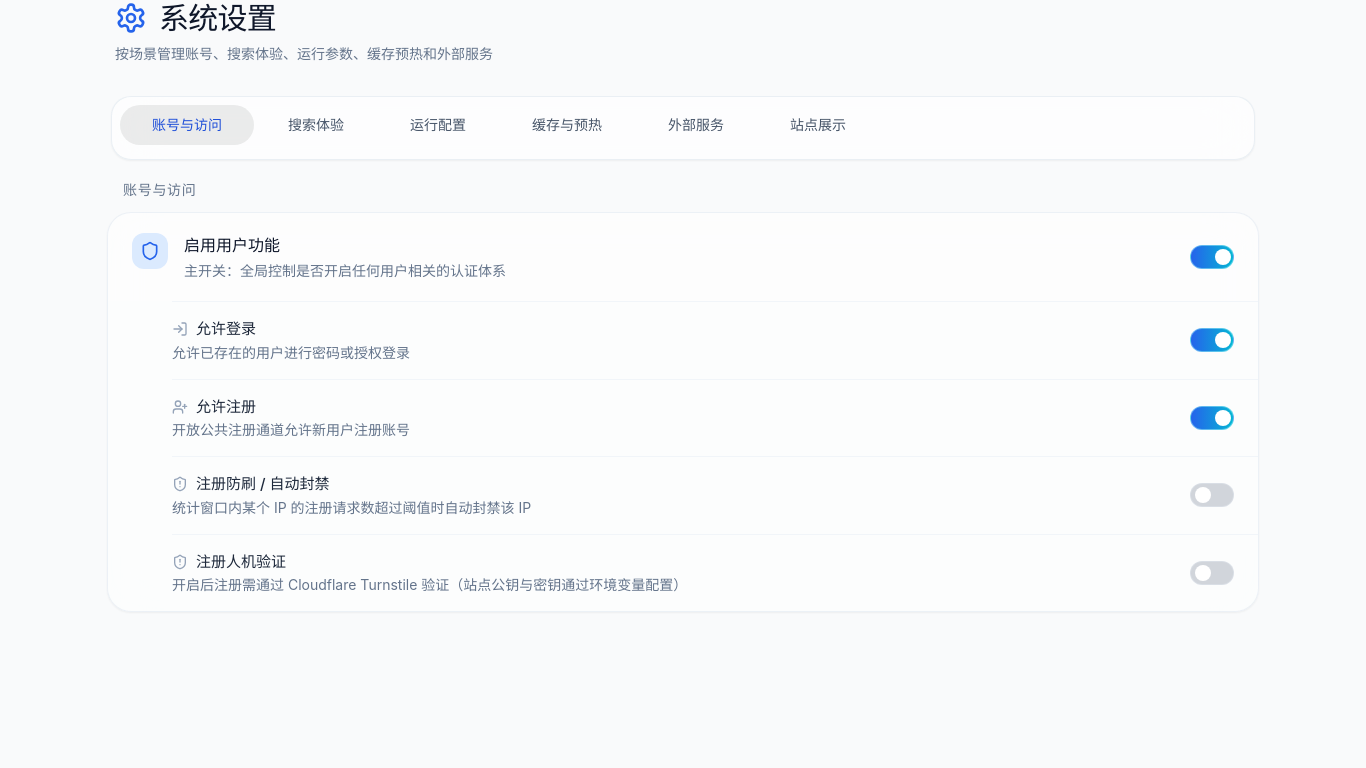
it: SystemSettingsView TMDB section › 点击运行配置后展示并发、异步插件和代理配置
Click the tab "运行配置" at (438, 124), box [410,116,466,133]
(page scrolled)
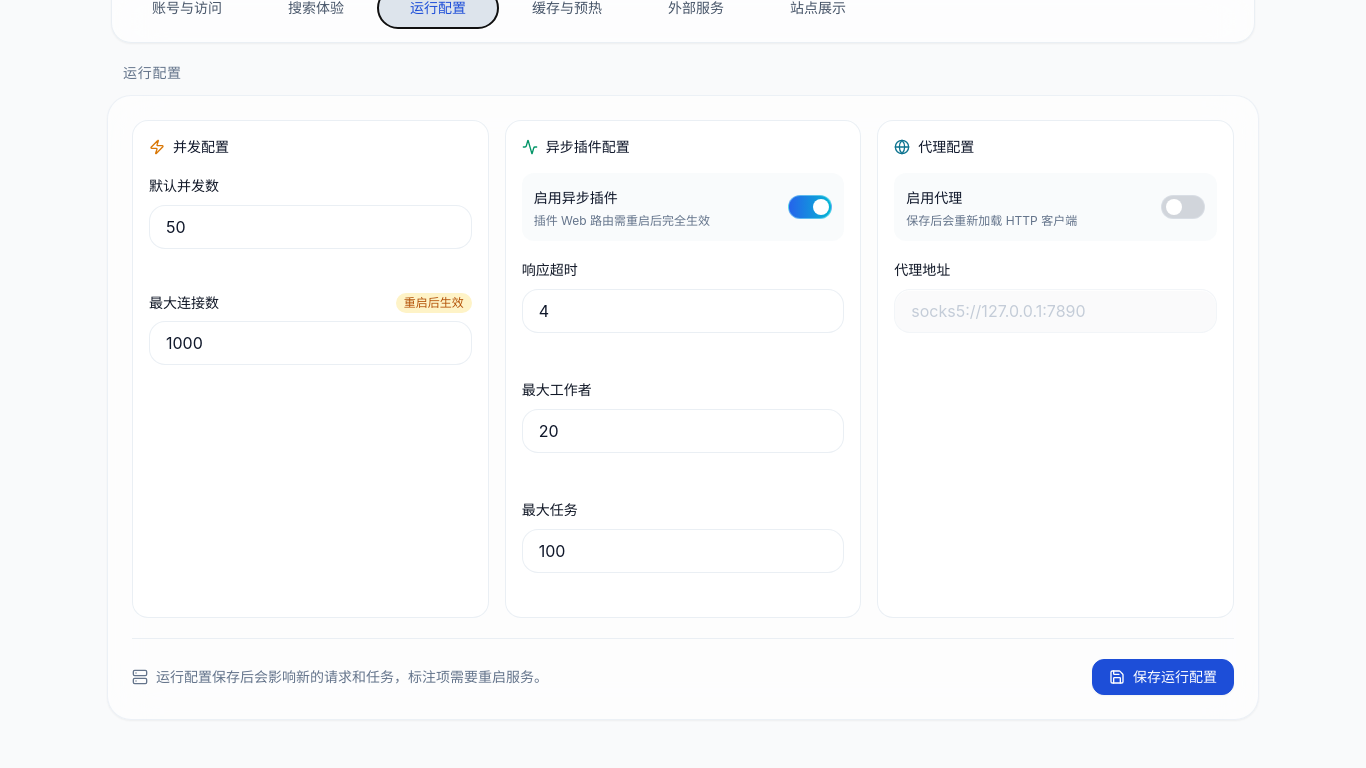
Now the text "并发配置" is shown, box [149,138,229,155]
Now the text "异步插件配置" is shown, box [522,138,630,155]
Now the text "代理配置" is shown, box [894,138,974,155]
